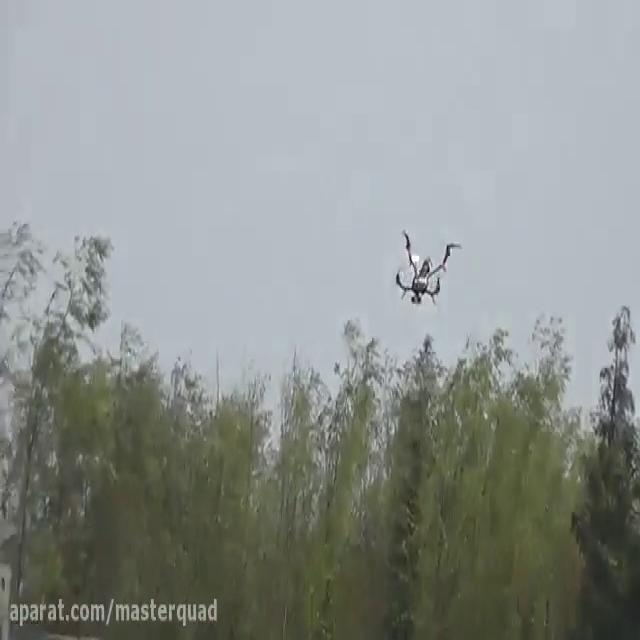drone: (386, 222, 464, 308)
